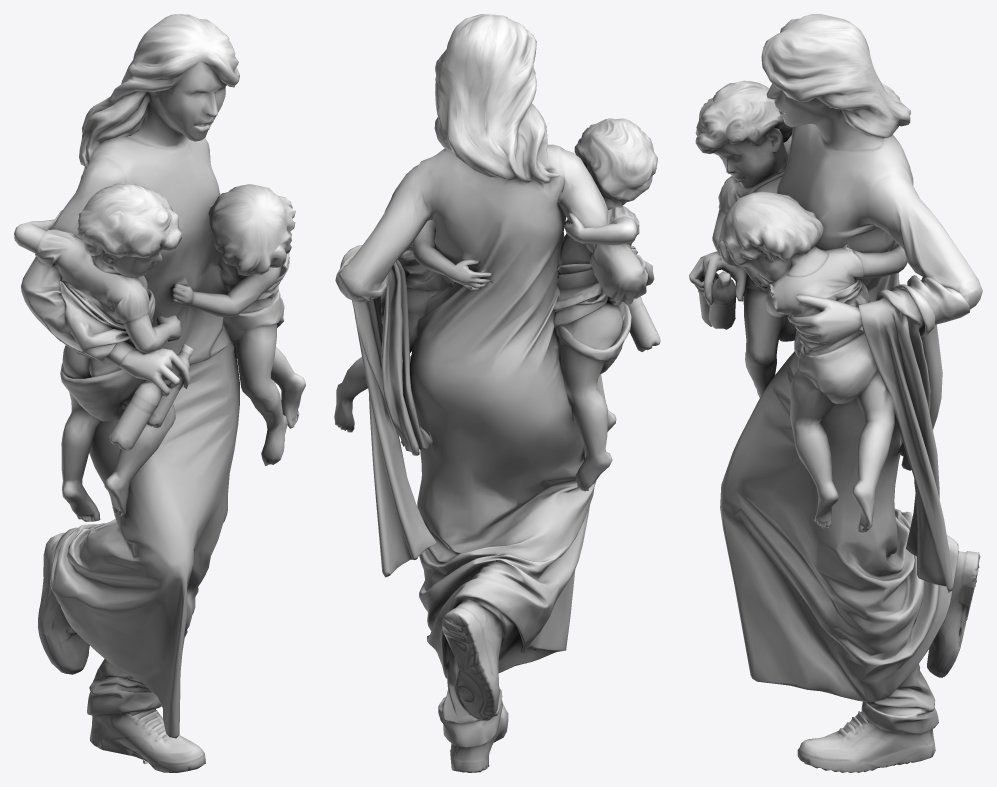
The model's file is asset.glb.
The picture shows the model from 3 angles, left to right: view 1: azimuth 30°, elevation 25°; view 2: azimuth 150°, elevation 25°; view 3: azimuth 270°, elevation 25°; orthographic projection. The views are drawn at different scales.
Visible parts, largest first — view 1: mother; view 2: mother; view 3: mother.
Part boxes in pixels (bbox=[...]): mother: bbox=[14, 14, 305, 772]; mother: bbox=[334, 14, 660, 772]; mother: bbox=[689, 14, 982, 772].
Size of the model in its own units: 197 by 470 by 167.
Materials: 2 (1 with a texture image).
